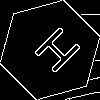H: (25, 25, 83, 83)
